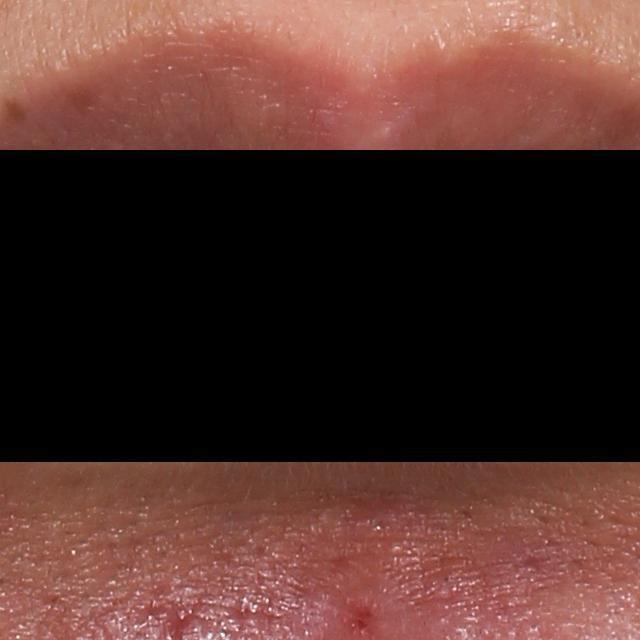nevus: (1, 93, 29, 122)
